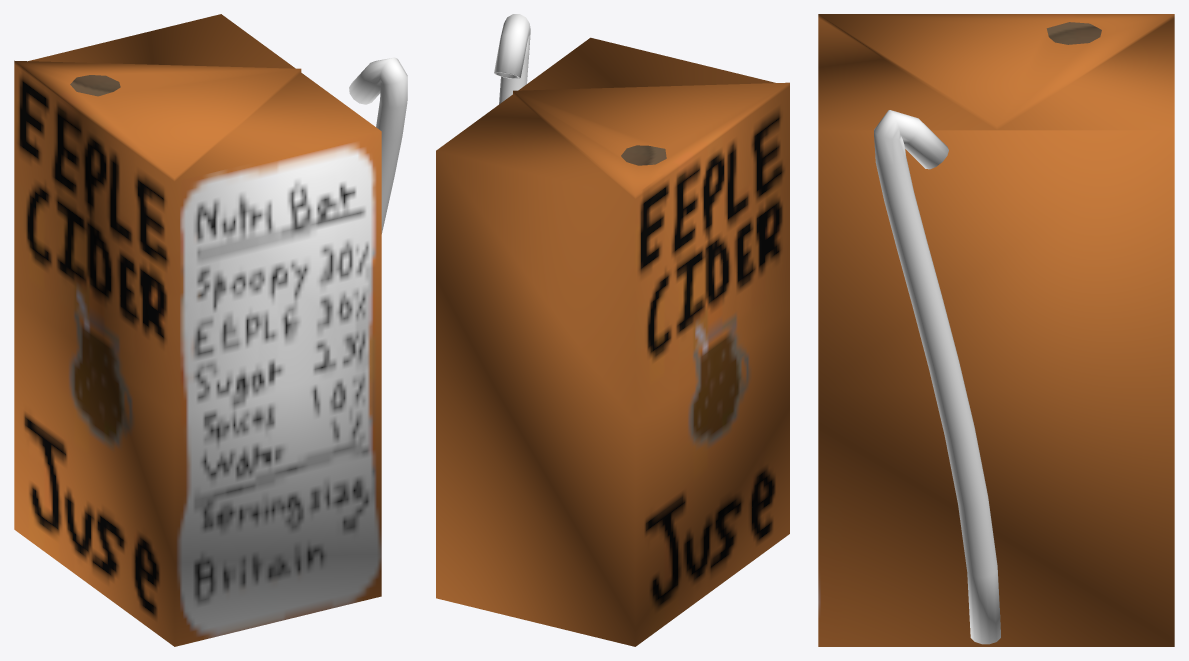
The model's file is item-eepple-cider-juse.glb.
The picture shows the model from 3 angles, left to right: view 1: azimuth 30°, elevation 25°; view 2: azimuth 150°, elevation 25°; view 3: azimuth 270°, elevation 25°; orthographic projection. The views are drawn at different scales.
Bounding box in the file's own units: 0.0768 × 0.14 × 0.0808.
Materials: 3 (2 with a texture image).
